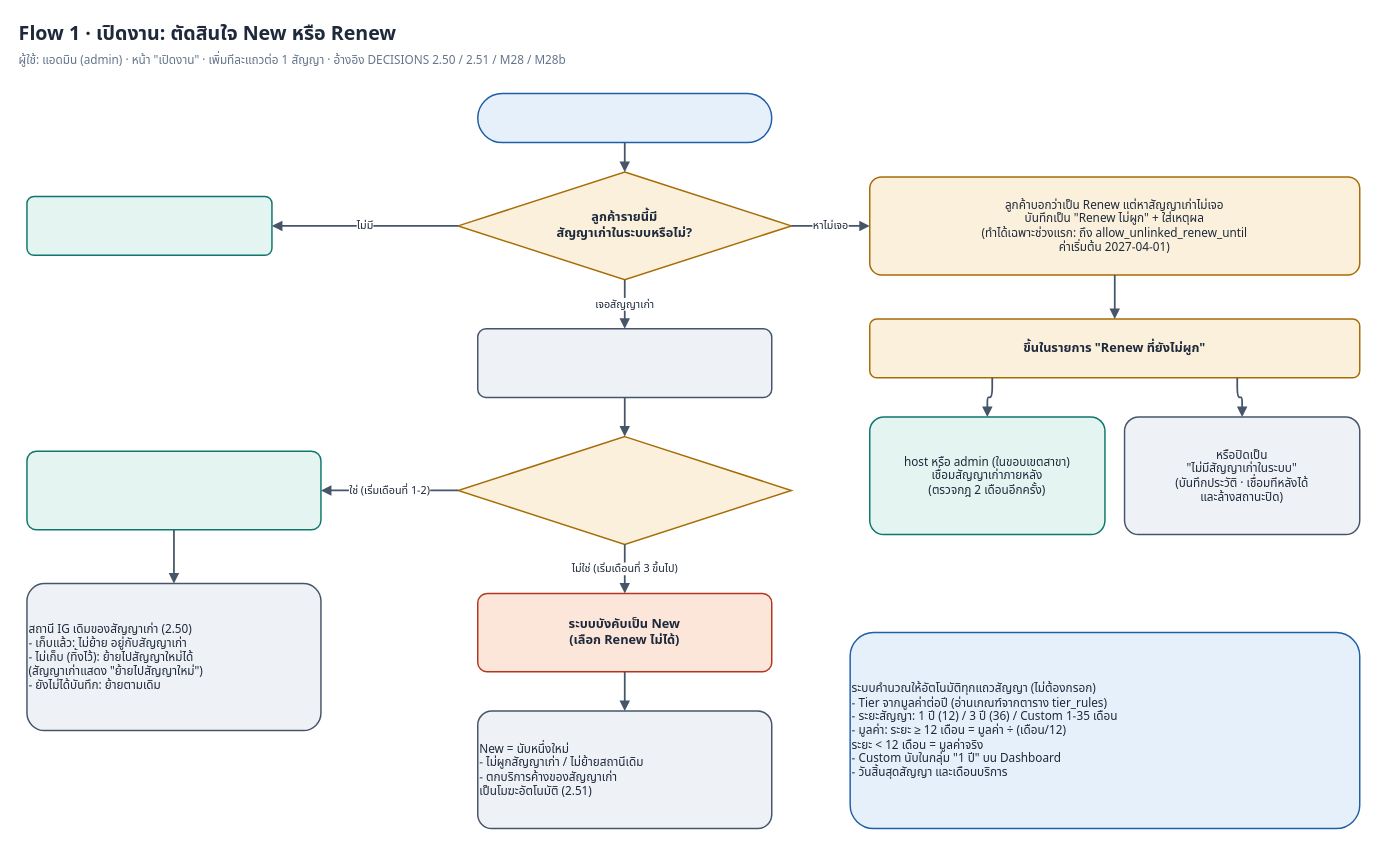
Image size: 1386x846. Some labels were removed from this diagram. The shapes that lost their labels are listed below. From the top down, each one's centre as x and y in pixels, then its label:
At [624,117]: "แอดมินเพิ่มแถวสัญญาในหน้าเปิดงาน".
At [149,225]: "New (ลูกค้าใหม่)".
At [624,363]: "เจอ: เทียบเดือนเริ่มสัญญาใหม่ กับเดือนบริการสุดท้ายของสัญญาเก่า".
At [173,490]: "Renew ได้ ผูกกับสัญญาเก่า (renewed_from)".
At [624,490]: "ห่างกัน ≤ 2 เดือน หรือไม่?".
